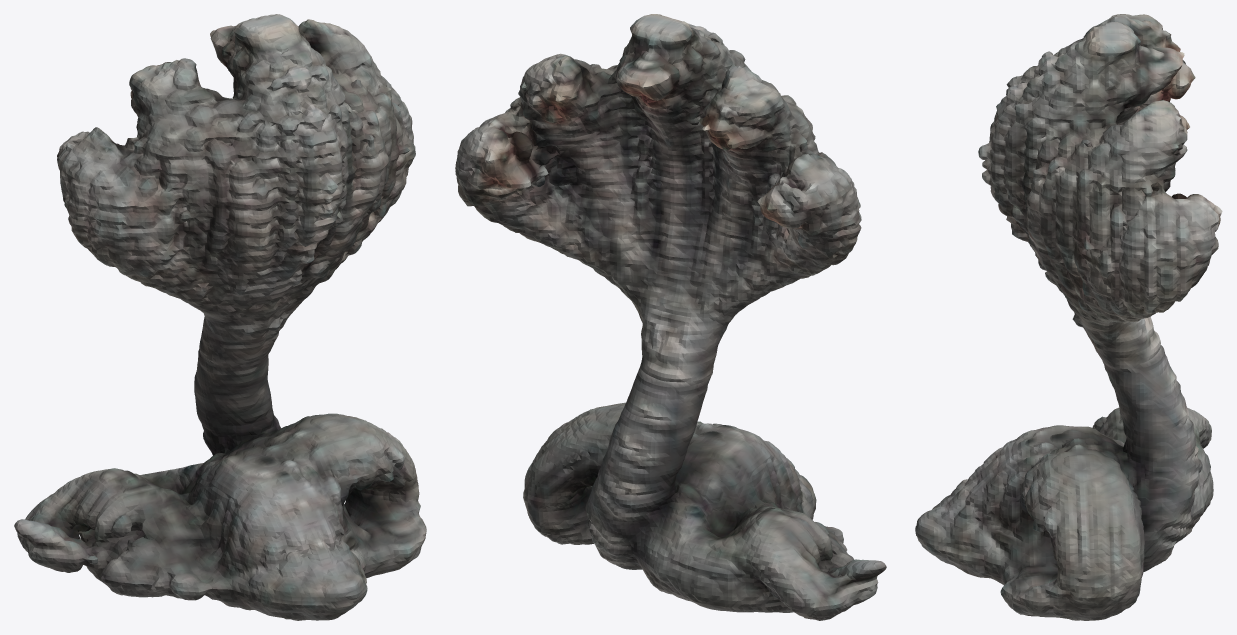
The model's file is sheshnag0.glb.
The picture shows the model from 3 angles, left to right: view 1: azimuth 30°, elevation 25°; view 2: azimuth 150°, elevation 25°; view 3: azimuth 270°, elevation 25°; orthographic projection. The views are drawn at different scales.
Visible parts, largest first — view 1: world; view 2: world; view 3: world.
Part boxes in pixels (x1,y1,x2,y2): world: (14,14,426,620); world: (455,14,886,620); world: (915,14,1222,620).
Size of the model in its own units: 1.58 by 2.03 by 1.04.
